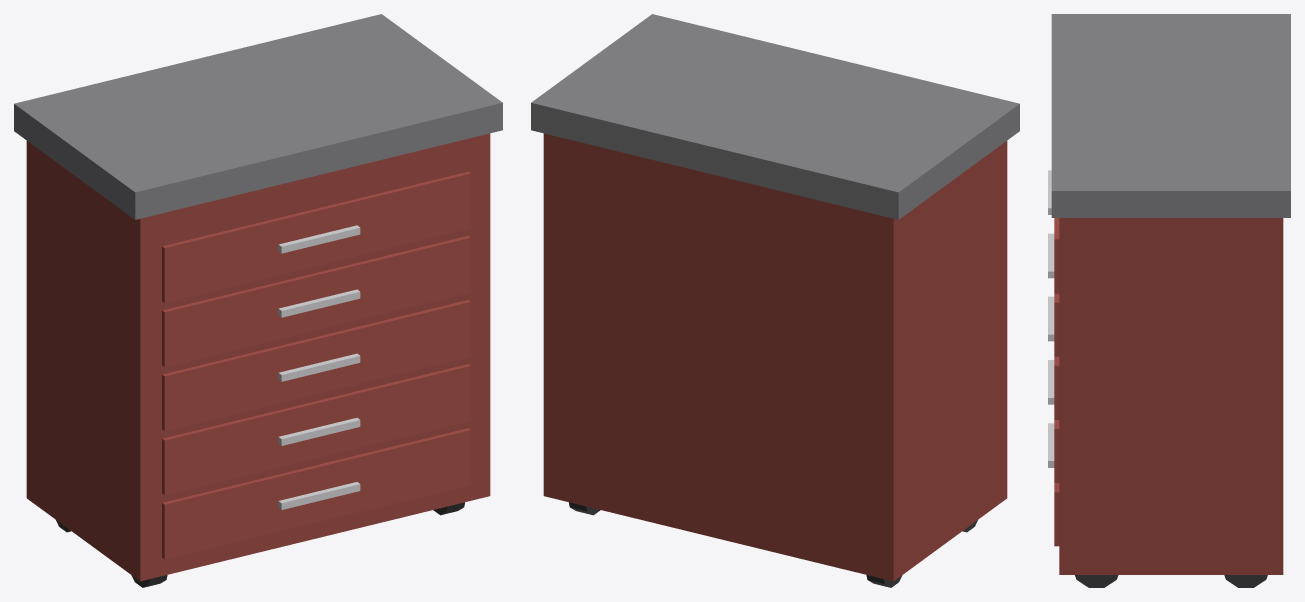
The model's file is garage_toolbox_a.glb.
3 renders of one model, left to right at view 1: azimuth 30°, elevation 25°; view 2: azimuth 150°, elevation 25°; view 3: azimuth 270°, elevation 25°, orthographic.
Parts seen in each view (by area): view 1: body; view 2: body; view 3: body.
Boxes of the visible parts, bbox=[...] form: body: bbox=[14, 14, 502, 587]; body: bbox=[531, 14, 1019, 587]; body: bbox=[1048, 14, 1290, 587].
Size of what is drawn, in the model's own units: 0.84 by 0.9076 by 0.4875.
